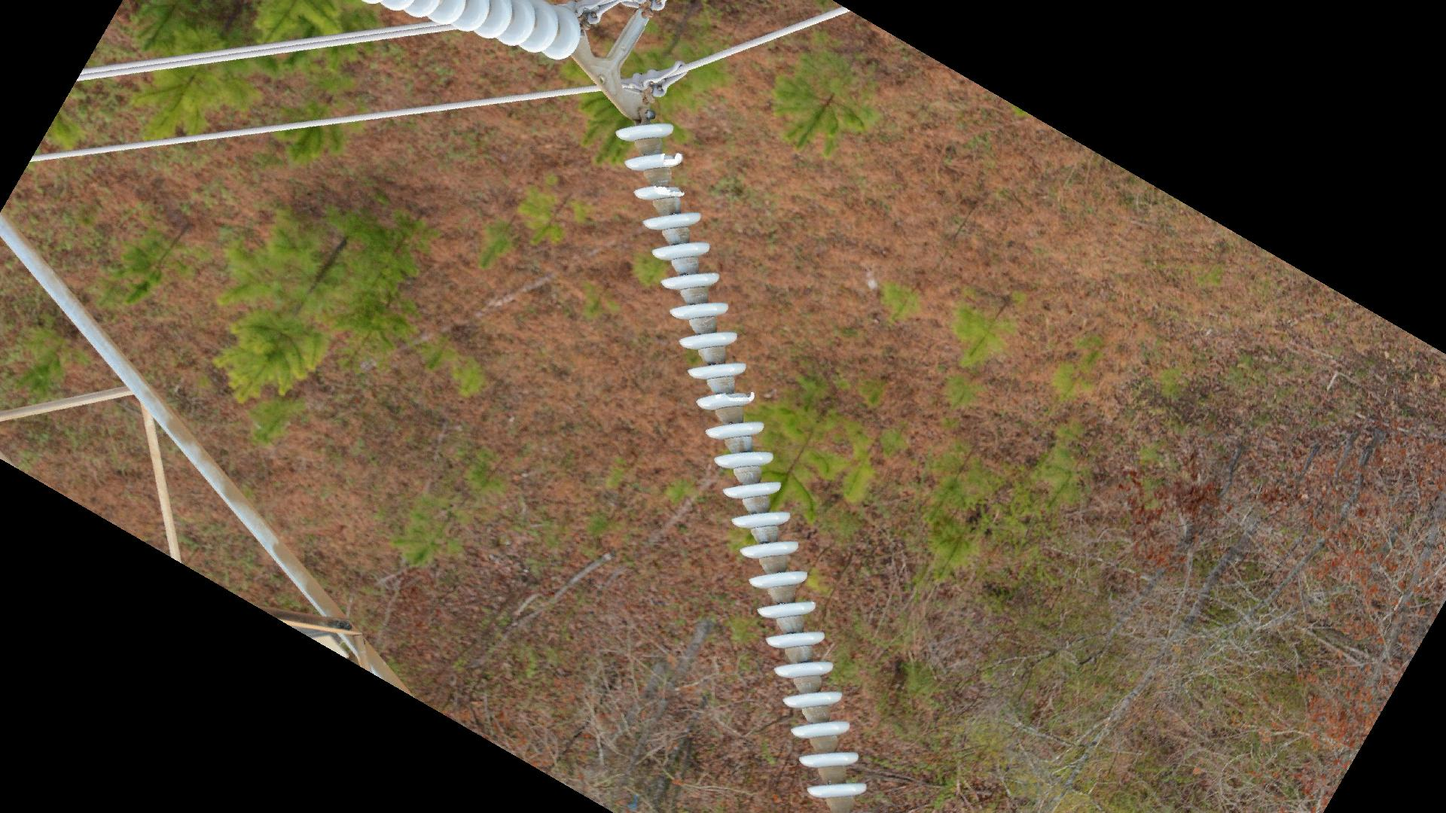insulator: (608, 117, 873, 813), (349, 1, 587, 69)
insulator_breakage: (719, 387, 758, 406), (650, 181, 686, 199), (657, 148, 685, 170)
